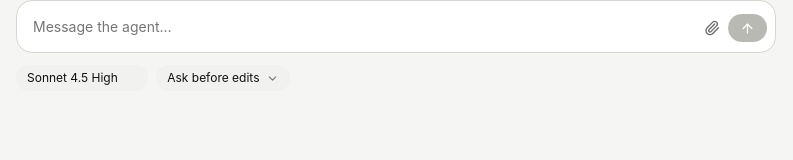
Scenario: Composer send mode › clears the field in the same tick as the send (A12)
Click the text box labelled "Message the agent…". click: (362, 26)
box: [33, 9, 690, 44]
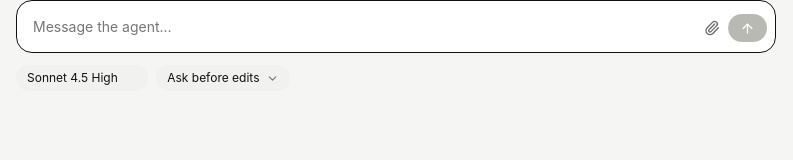
Type keys "run the tests"
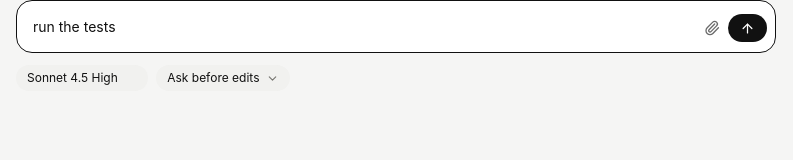
Click the button named "Send". click: (748, 28)
box: [728, 14, 767, 42]
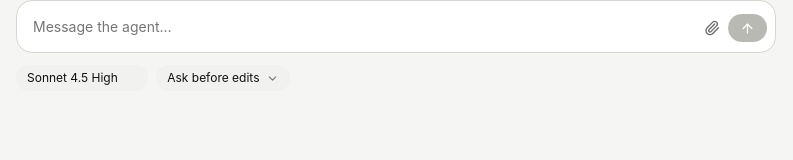
Expected: the text box labelled "Message the agent…" is empty
Expected: the button named "Send" is disabled, [728, 14, 767, 42]
Click the text box labelled "Message the agent…". click: (362, 26)
box: [33, 9, 690, 44]
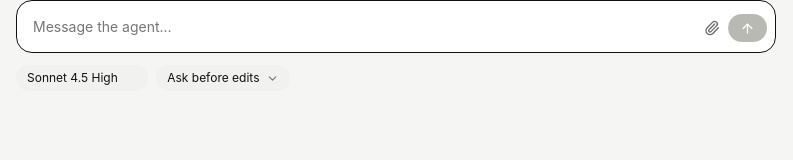
Type keys "and then lint"
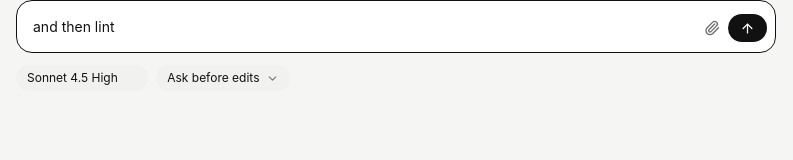
Expected: the button named "Send" is enabled, [728, 14, 767, 42]
